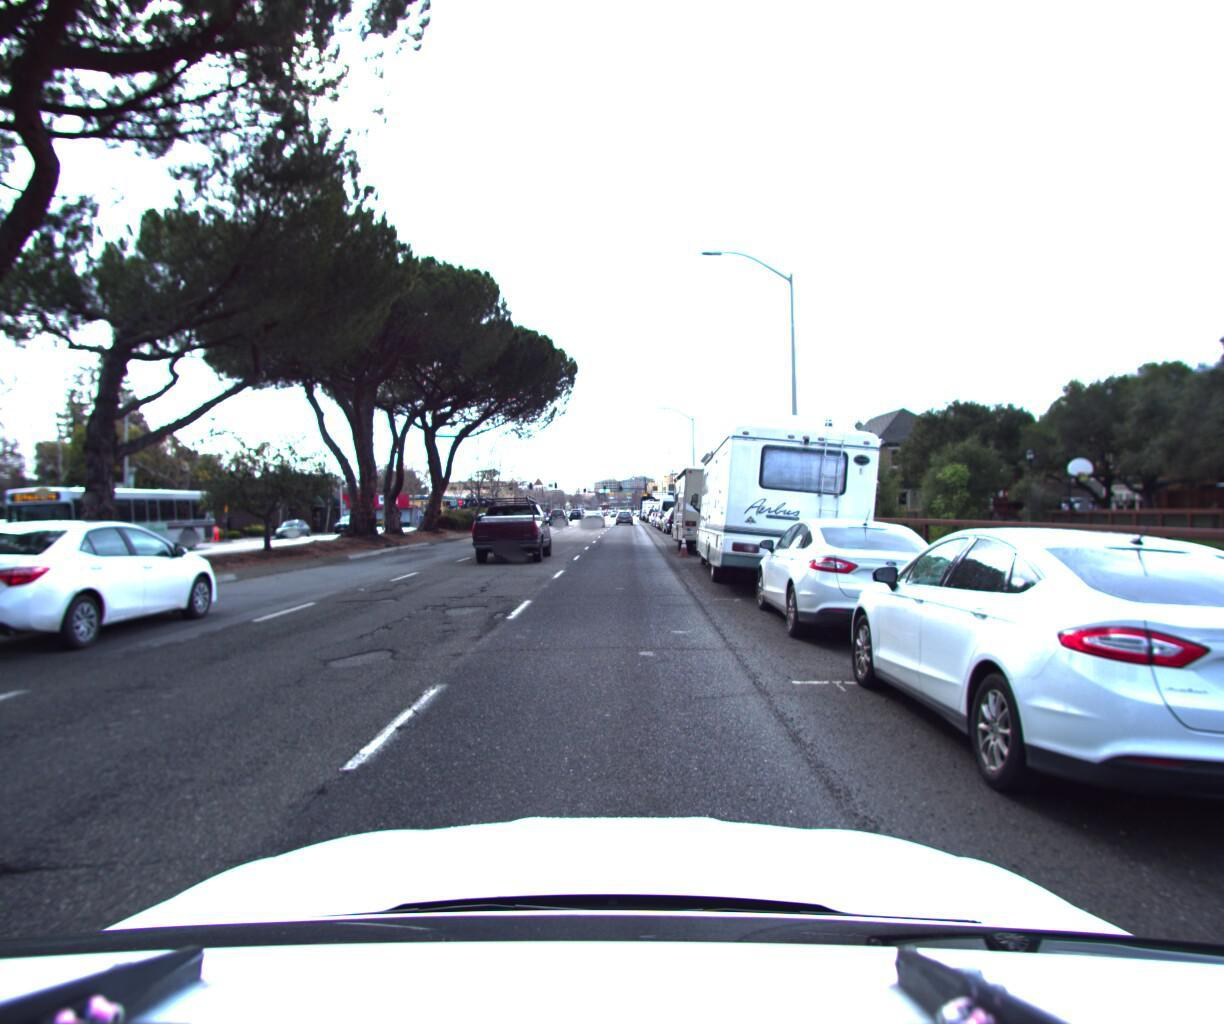bus: (0, 488, 225, 566)
car: (839, 506, 1224, 875), (0, 509, 239, 664), (754, 509, 977, 652), (469, 491, 558, 566), (0, 518, 72, 573), (660, 492, 692, 531), (279, 520, 317, 541), (338, 514, 373, 536), (582, 509, 606, 529), (548, 507, 570, 525), (615, 510, 635, 526)
other_vehicle: (694, 403, 891, 603), (672, 464, 774, 560)
